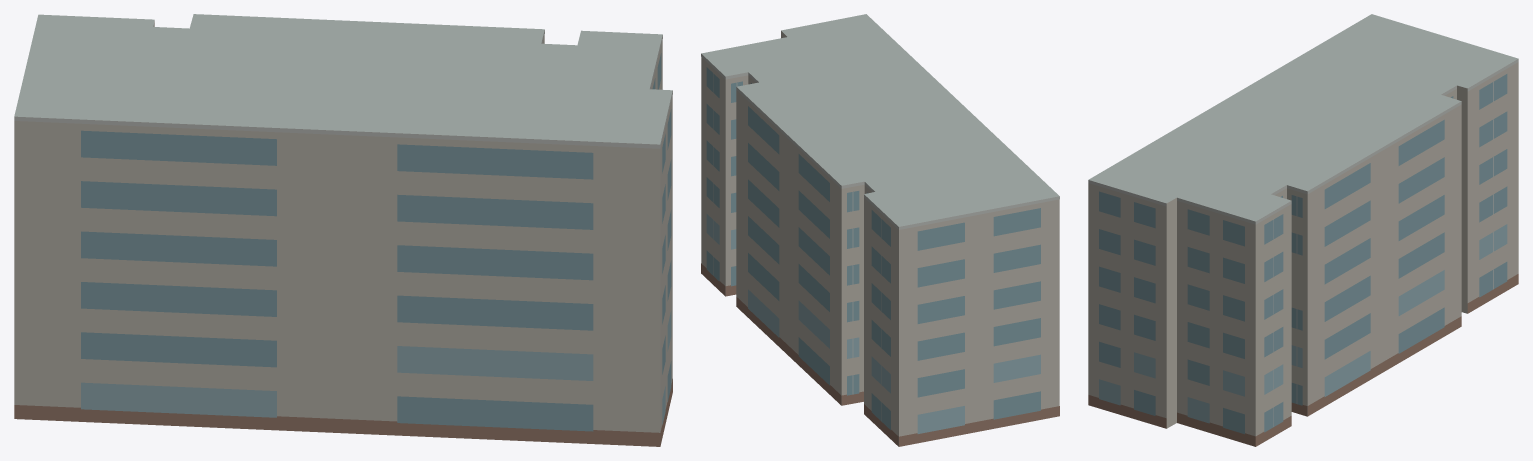
The model's file is survey-upis-32552465.glb.
The picture shows the model from 3 angles, left to right: view 1: azimuth 30°, elevation 25°; view 2: azimuth 150°, elevation 25°; view 3: azimuth 270°, elevation 25°; orthographic projection. The views are drawn at different scales.
Visible parts, largest first — view 1: survey-upis-32552465.tmp; view 2: survey-upis-32552465.tmp; view 3: survey-upis-32552465.tmp.
Boxes of the visible parts, x1=… form: survey-upis-32552465.tmp: x1=14, y1=14, x2=672, y2=446; survey-upis-32552465.tmp: x1=701, y1=14, x2=1059, y2=446; survey-upis-32552465.tmp: x1=1088, y1=14, x2=1518, y2=446.
Bounding box in the file's own units: 34.29 × 17.35 × 30.05.
